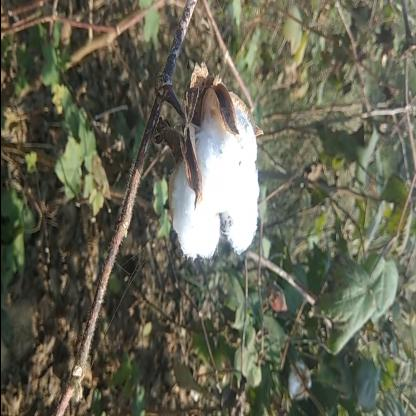cotton_ready: (144, 80, 263, 264)
